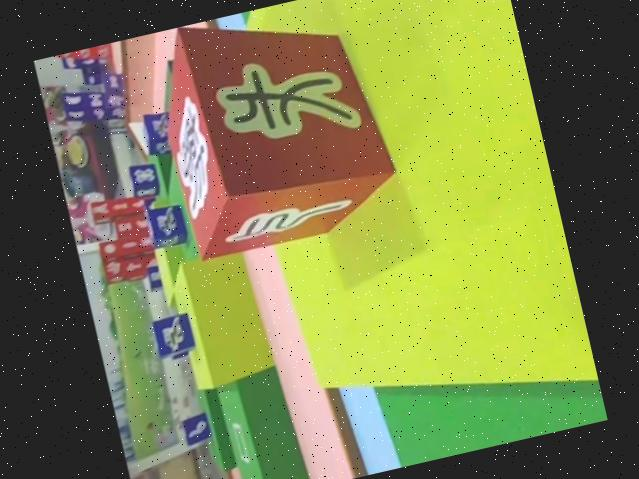R2 Fake: (142, 0, 407, 271)
